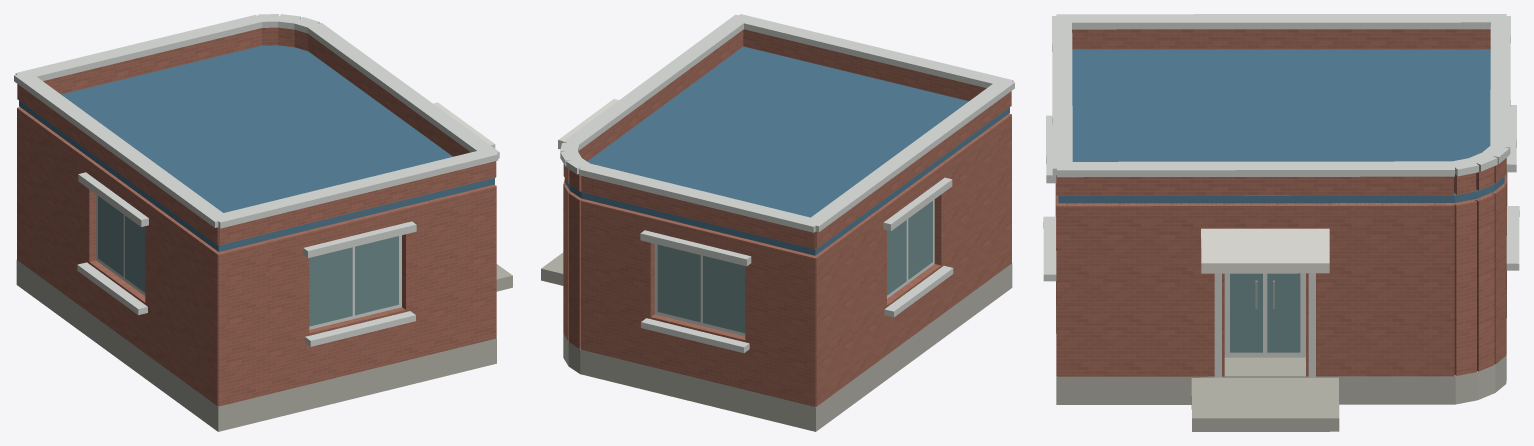
The picture shows the model from 3 angles, left to right: view 1: azimuth 30°, elevation 25°; view 2: azimuth 150°, elevation 25°; view 3: azimuth 270°, elevation 25°; orthographic projection. The views are drawn at different scales.
Parts seen in each view (by area): view 1: guard__brick, guard__roof, guard__frame, guard__threshold-entry, guard__glass; view 2: guard__brick, guard__roof, guard__frame, guard__threshold-entry, guard__glass; view 3: guard__brick, guard__roof, guard__frame, guard__threshold-entry, guard__canopy, guard__glass.
Boxes of the visible parts, x1=… form: guard__brick: x1=17, y1=27, x2=496, y2=406; guard__roof: x1=19, y1=45, x2=494, y2=251; guard__frame: x1=14, y1=14, x2=499, y2=346; guard__threshold-entry: x1=16, y1=260, x2=512, y2=431; guard__glass: x1=98, y1=196, x2=398, y2=326; guard__brick: x1=563, y1=29, x2=1011, y2=406; guard__roof: x1=565, y1=46, x2=1009, y2=255; guard__frame: x1=560, y1=14, x2=1014, y2=353; guard__threshold-entry: x1=541, y1=252, x2=1012, y2=431; guard__glass: x1=657, y1=201, x2=932, y2=333; guard__brick: x1=1055, y1=29, x2=1507, y2=376; guard__roof: x1=1058, y1=49, x2=1504, y2=203; guard__frame: x1=1043, y1=14, x2=1519, y2=377; guard__threshold-entry: x1=1056, y1=290, x2=1506, y2=431; guard__canopy: x1=1201, y1=228, x2=1329, y2=273; guard__glass: x1=1230, y1=273, x2=1300, y2=352.
Size of the model in its own units: 7.55 by 4.16 by 7.6.
Materials: 8 (1 with a texture image).
